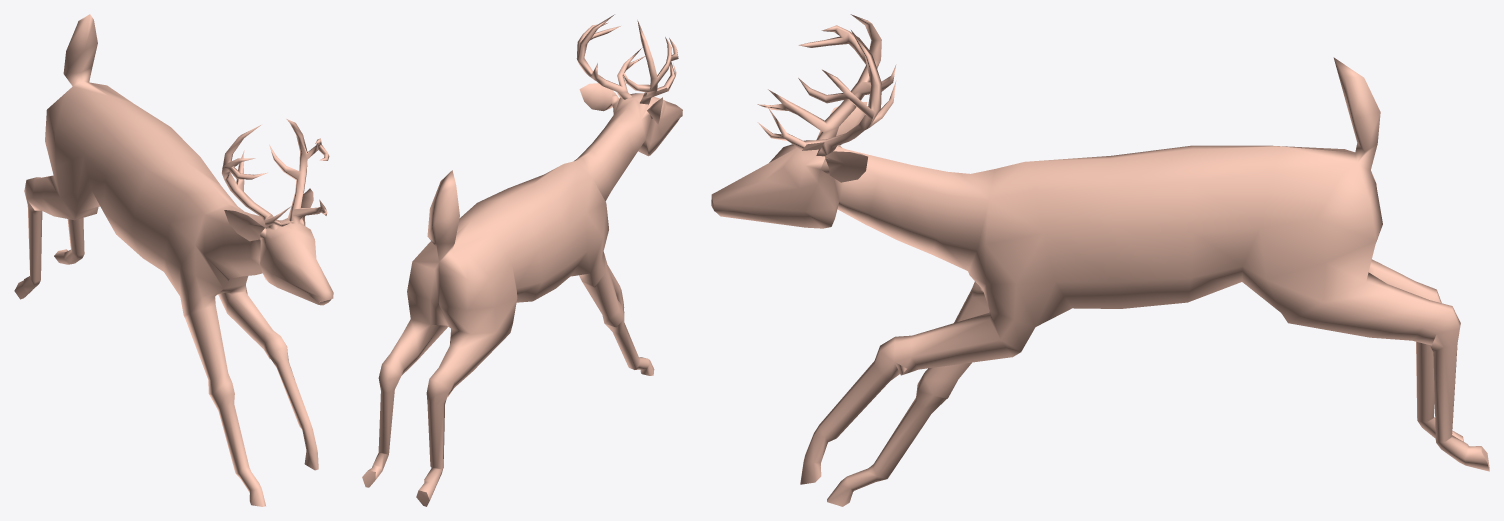
File: deer_bound.obj
3 views of the same model, side by side, from view 1: azimuth 30°, elevation 25°; view 2: azimuth 150°, elevation 25°; view 3: azimuth 270°, elevation 25° (orthographic). The views are drawn at different scales.
Size of the model in its own units: 0.4921 by 1.84 by 2.63.
